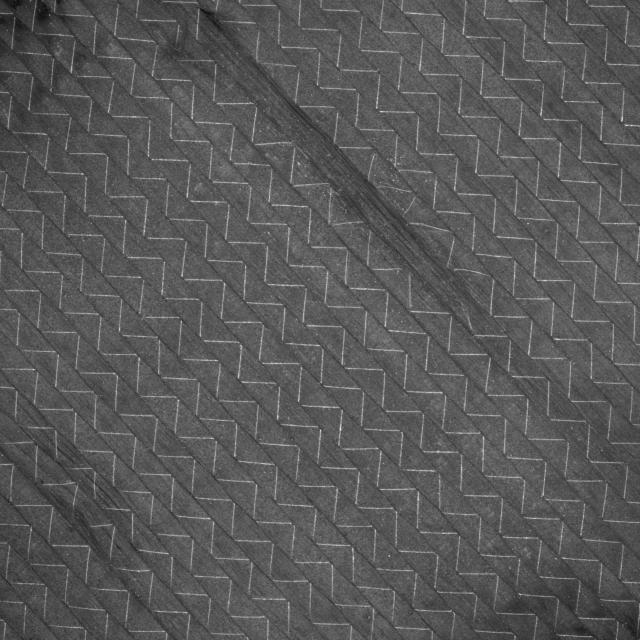carbon-fibre-defect: (173, 3, 478, 325)
